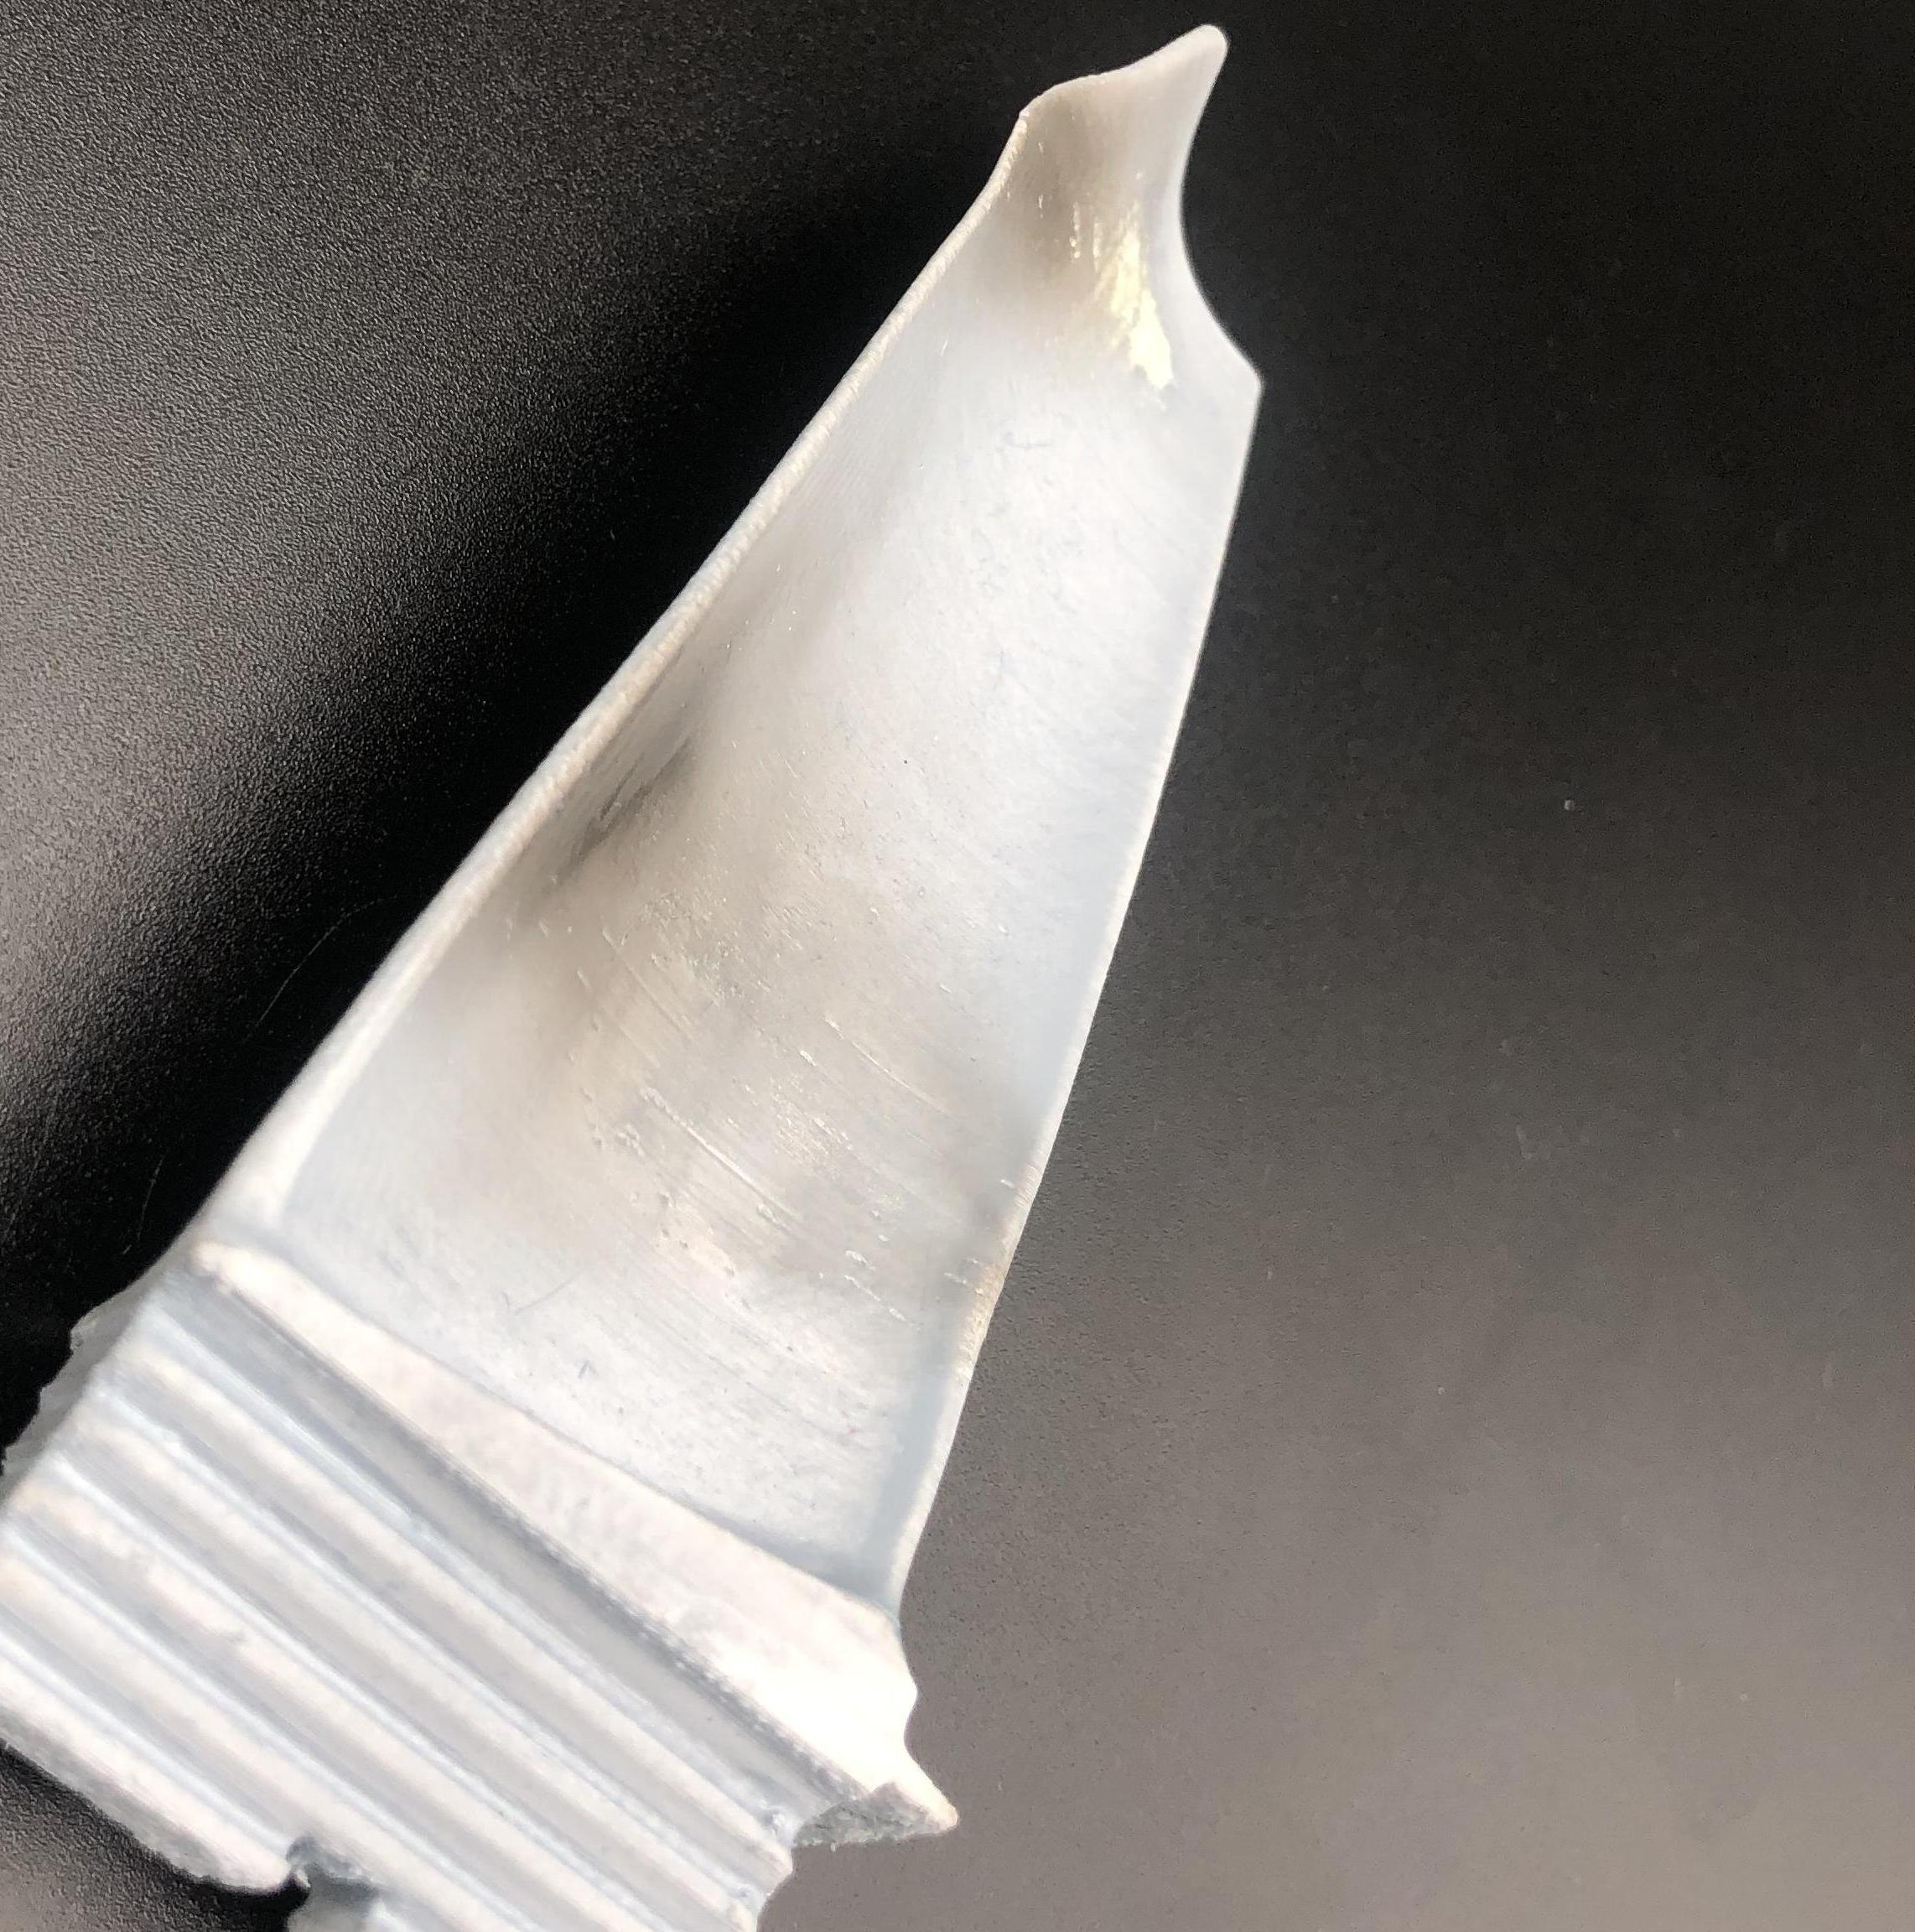ablation: (540, 715, 977, 1261), (1012, 102, 1185, 380)
